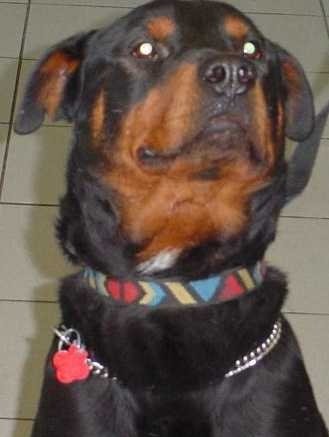dog: (32, 6, 329, 361)
